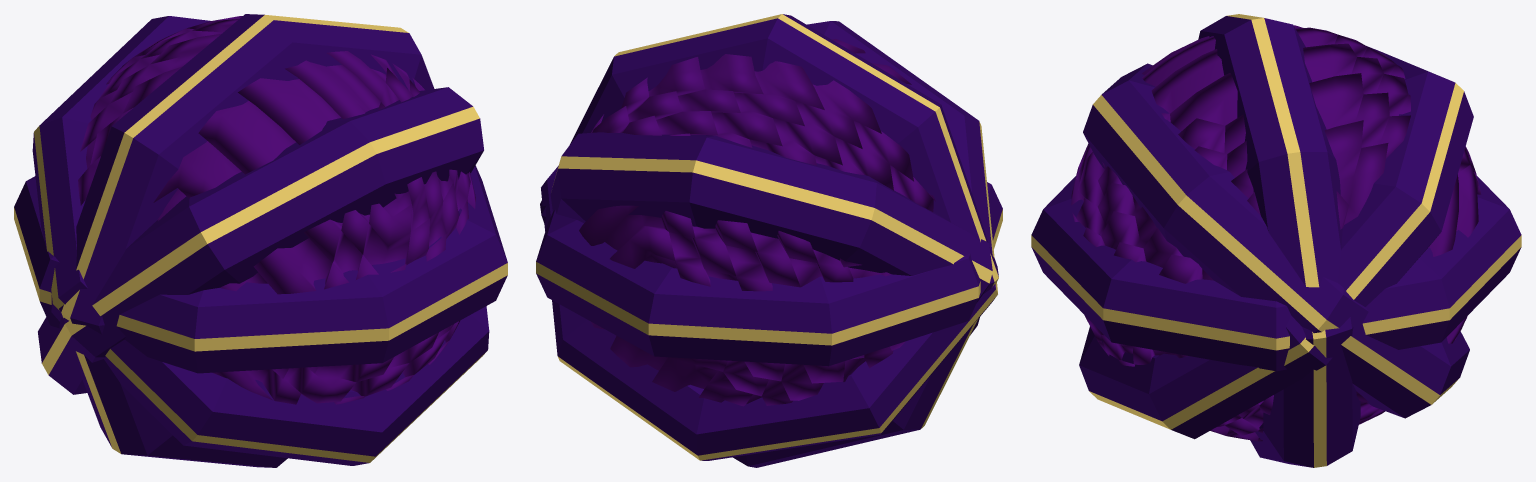
The model's file is TenebrisEssence.fbx.
3 renders of one model, left to right at view 1: azimuth 30°, elevation 25°; view 2: azimuth 150°, elevation 25°; view 3: azimuth 270°, elevation 25°, orthographic. The views are drawn at different scales.
Visible parts, largest first — view 1: Cube; view 2: Cube; view 3: Cube.
Part boxes in pixels (box(x1,y1,x2,y2)): Cube: box(14, 14, 507, 467); Cube: box(536, 14, 1002, 467); Cube: box(1031, 14, 1521, 467).
Size of the model in its own units: 247 by 247 by 247.
